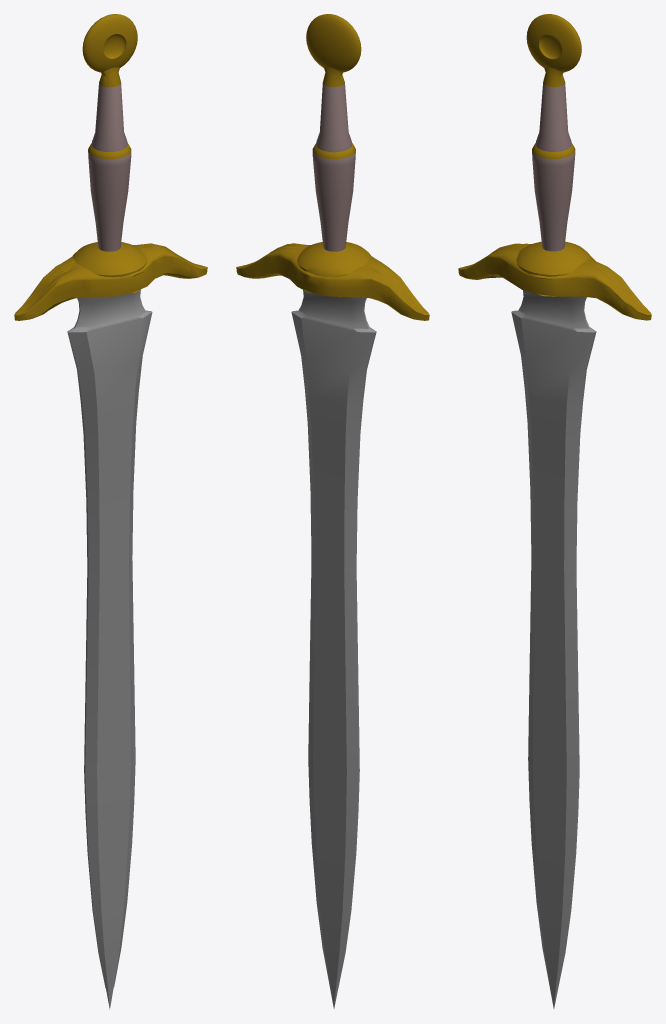
The model's file is sword.fbx.
The picture shows the model from 3 angles, left to right: view 1: azimuth 30°, elevation 25°; view 2: azimuth 150°, elevation 25°; view 3: azimuth 330°, elevation 25°; orthographic projection.
Parts seen in each view (by area): view 1: Cylinder.001; view 2: Cylinder.001; view 3: Cylinder.001.
Boxes of the visible parts, x1,y1,x2,y2 form: Cylinder.001: (14, 14, 207, 1009); Cylinder.001: (236, 14, 429, 1008); Cylinder.001: (458, 14, 651, 1008).
Bounding box in the file's own units: 170 × 835 × 60.59.
